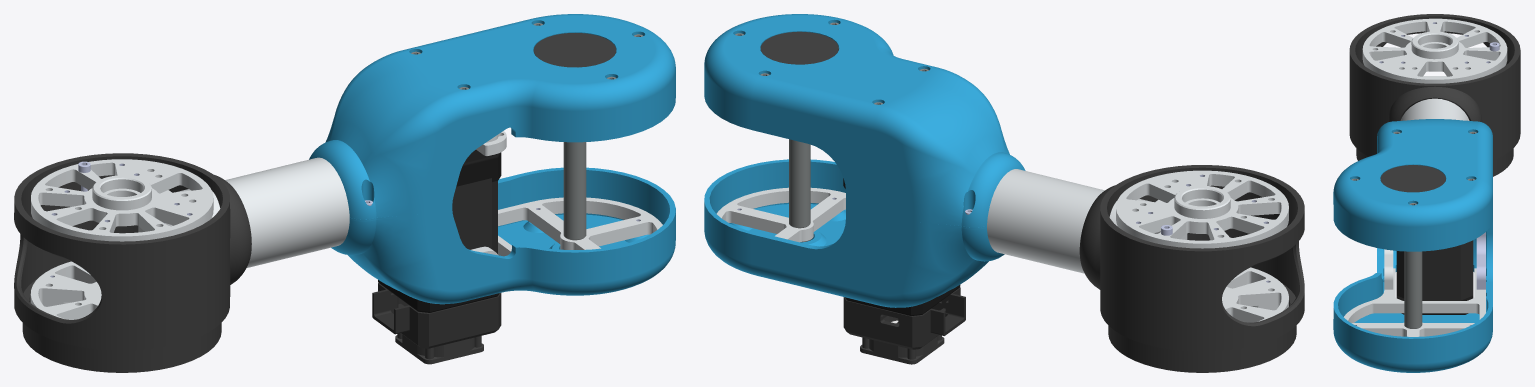
Rendered from arm_link.dae.
3 views of the same model, side by side, from view 1: azimuth 30°, elevation 25°; view 2: azimuth 150°, elevation 25°; view 3: azimuth 270°, elevation 25° (orthographic). The views are drawn at different scales.
Visible parts, largest first — view 1: Body_48, Body_47, Body_49, _3DGeom-85, _3DGeom-301, Body_12, _3DGeom-498, _3DGeom-211, Body_9, _3DGeom-1155, Body_50, _3DGeom-1018 (+2 smaller); view 2: Body_48, Body_47, Body_49, _3DGeom-85, _3DGeom-301, Body_12, _3DGeom-498, _3DGeom-211, Body_50, _3DGeom-1155, _3DGeom-1018, Body_13; view 3: Body_48, Body_47, Body_49, _3DGeom-85, _3DGeom-498, Body_9, _3DGeom-1155, Body_50, _3DGeom-301, Body_32, _3DGeom-1287.
Part boxes in pixels (x1,y1,x2,y2): Body_48: (309, 14, 675, 221); Body_47: (14, 153, 251, 372); Body_49: (331, 167, 675, 304); _3DGeom-85: (31, 159, 213, 241); _3DGeom-301: (165, 157, 349, 267); Body_12: (372, 283, 501, 348); _3DGeom-498: (498, 197, 662, 256); _3DGeom-211: (30, 261, 101, 319); Body_9: (452, 178, 497, 253); _3DGeom-1155: (563, 142, 586, 240); Body_50: (533, 33, 616, 67); _3DGeom-1018: (395, 333, 483, 364); Body_48: (704, 14, 1025, 229); Body_47: (1079, 165, 1304, 372); Body_49: (704, 159, 1004, 307); _3DGeom-85: (1116, 170, 1288, 248); _3DGeom-301: (987, 169, 1160, 273); Body_12: (843, 287, 965, 349); _3DGeom-498: (716, 187, 845, 242); _3DGeom-211: (1222, 267, 1288, 322); Body_50: (760, 31, 838, 64); _3DGeom-1155: (789, 139, 810, 228); _3DGeom-1018: (860, 316, 944, 364); Body_13: (845, 285, 960, 315); Body_48: (1333, 119, 1492, 251); Body_47: (1349, 14, 1520, 176); Body_49: (1333, 223, 1492, 372); _3DGeom-85: (1362, 18, 1507, 83); _3DGeom-498: (1344, 268, 1485, 336); Body_9: (1396, 240, 1473, 300); _3DGeom-1155: (1404, 251, 1422, 328); Body_50: (1380, 165, 1445, 192); _3DGeom-301: (1400, 98, 1469, 120); Body_32: (1476, 232, 1485, 289); _3DGeom-1287: (1384, 249, 1393, 289).
Size of the model in its own units: 0.3121 by 0.1031 by 0.1327.
